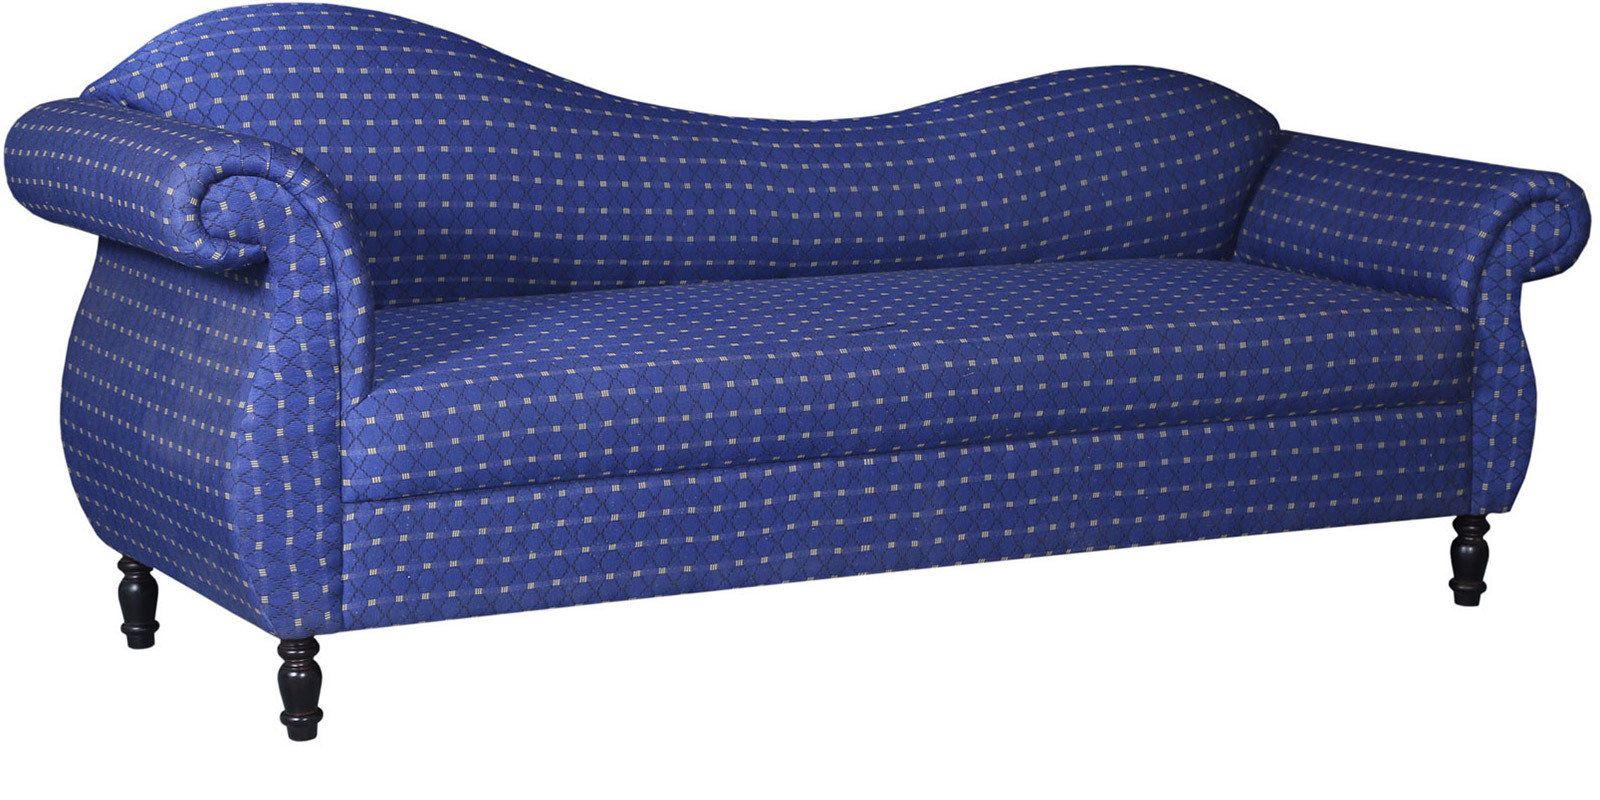Bayley Three Seater Sofa in Blue Color by Amberville: (14, 13, 1600, 645)
